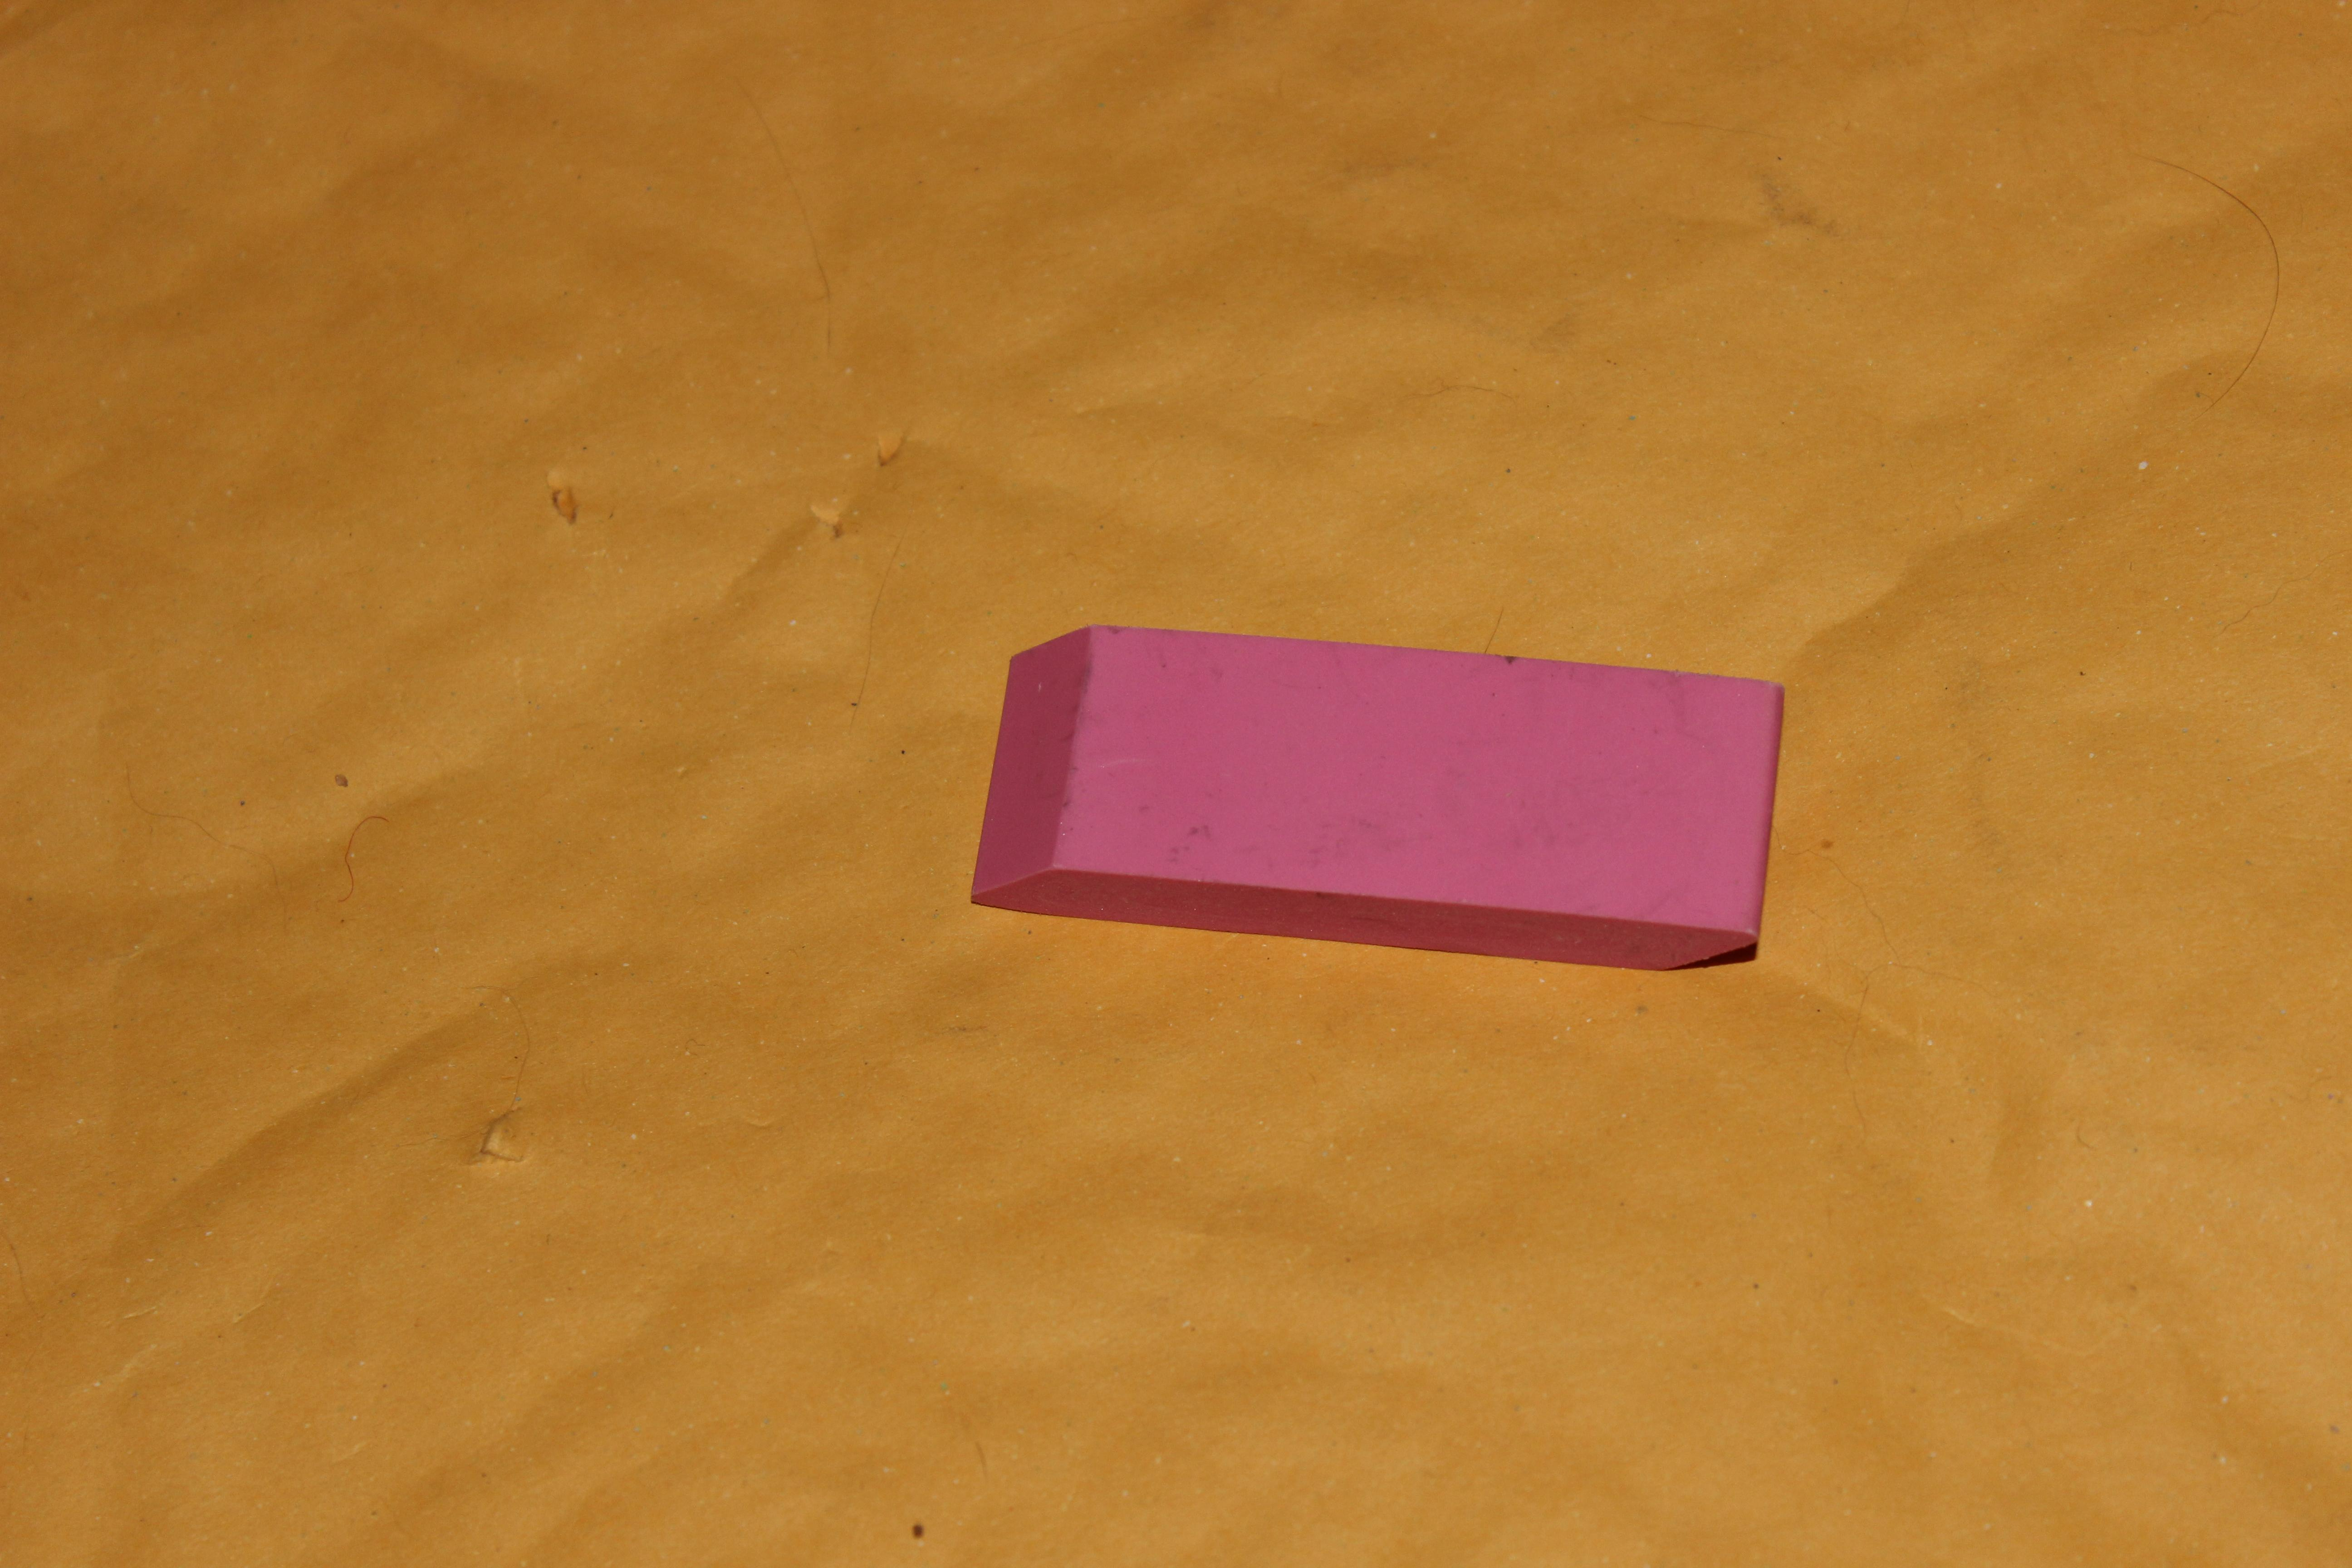pinkEraser: (940, 597, 1822, 1015)
